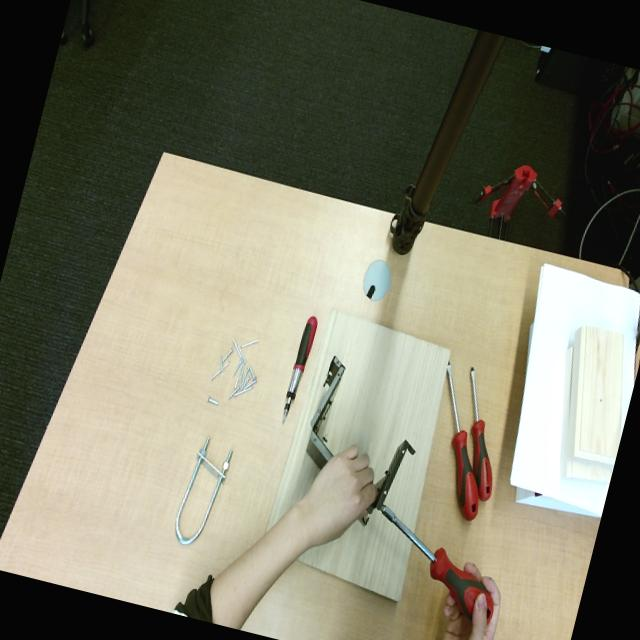screwdriver: (380, 505, 494, 620), (446, 365, 478, 520), (282, 316, 317, 423), (470, 367, 492, 501)
